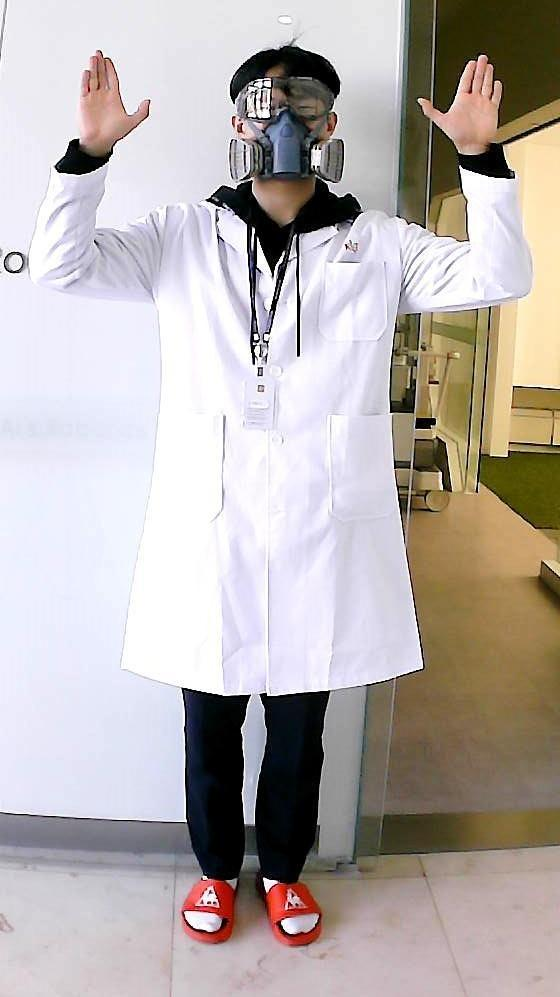lab_coat: (133, 222, 416, 689)
